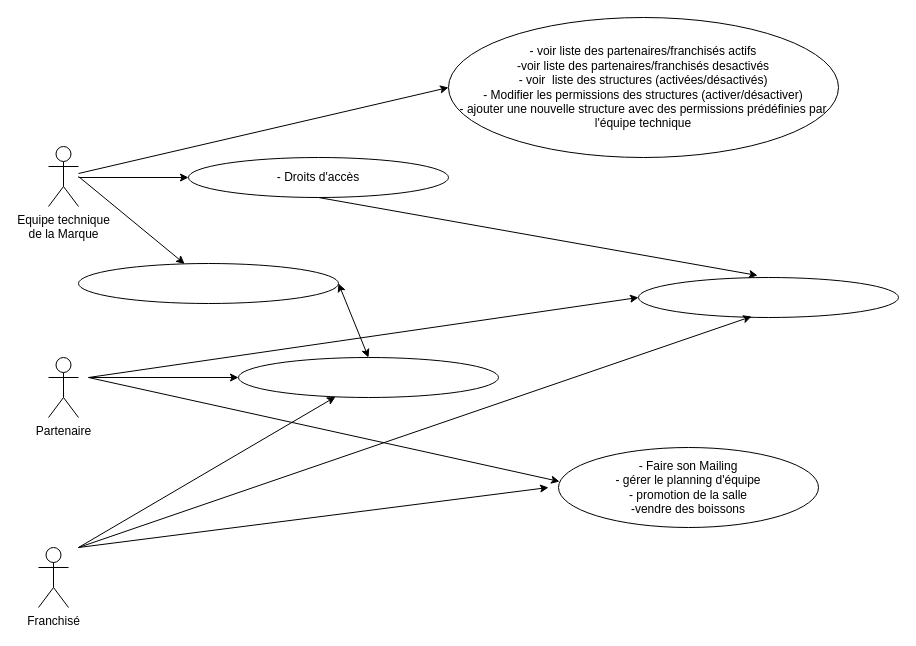
Image size: 916x646. Some labels were removed from this diagram. The centre of each missing label's shape, as x and y in pixels:
"- Mailing automatique après ajout d'une structure" belongs at (208,283).
"- Outils de gestion en ligne" belongs at (768,297).
"-Confirmation d'accès aux données de la structure" belongs at (368,377).
